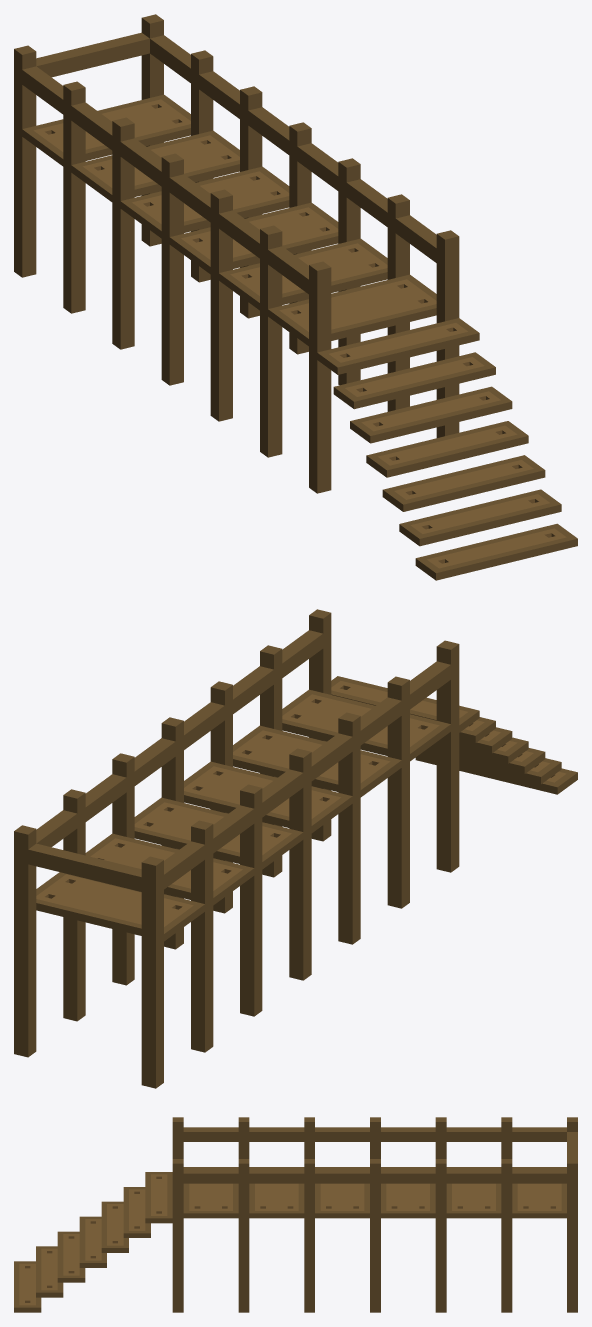
File: Pueste  2.glb
The picture shows the model from 3 angles, top to bottom: view 1: azimuth 30°, elevation 25°; view 2: azimuth 150°, elevation 25°; view 3: azimuth 270°, elevation 25°; orthographic projection. The views are drawn at different scales.
Visible parts, largest first — view 1: pueste; view 2: pueste; view 3: pueste.
Part boxes in pixels (x1,y1,x2,y2): pueste: [14, 14, 577, 580]; pueste: [14, 609, 577, 1088]; pueste: [14, 1117, 577, 1312].
Size of what is drawn, in the model's own units: 2 by 3 by 10.3.
Materials: 1 (1 with a texture image).
